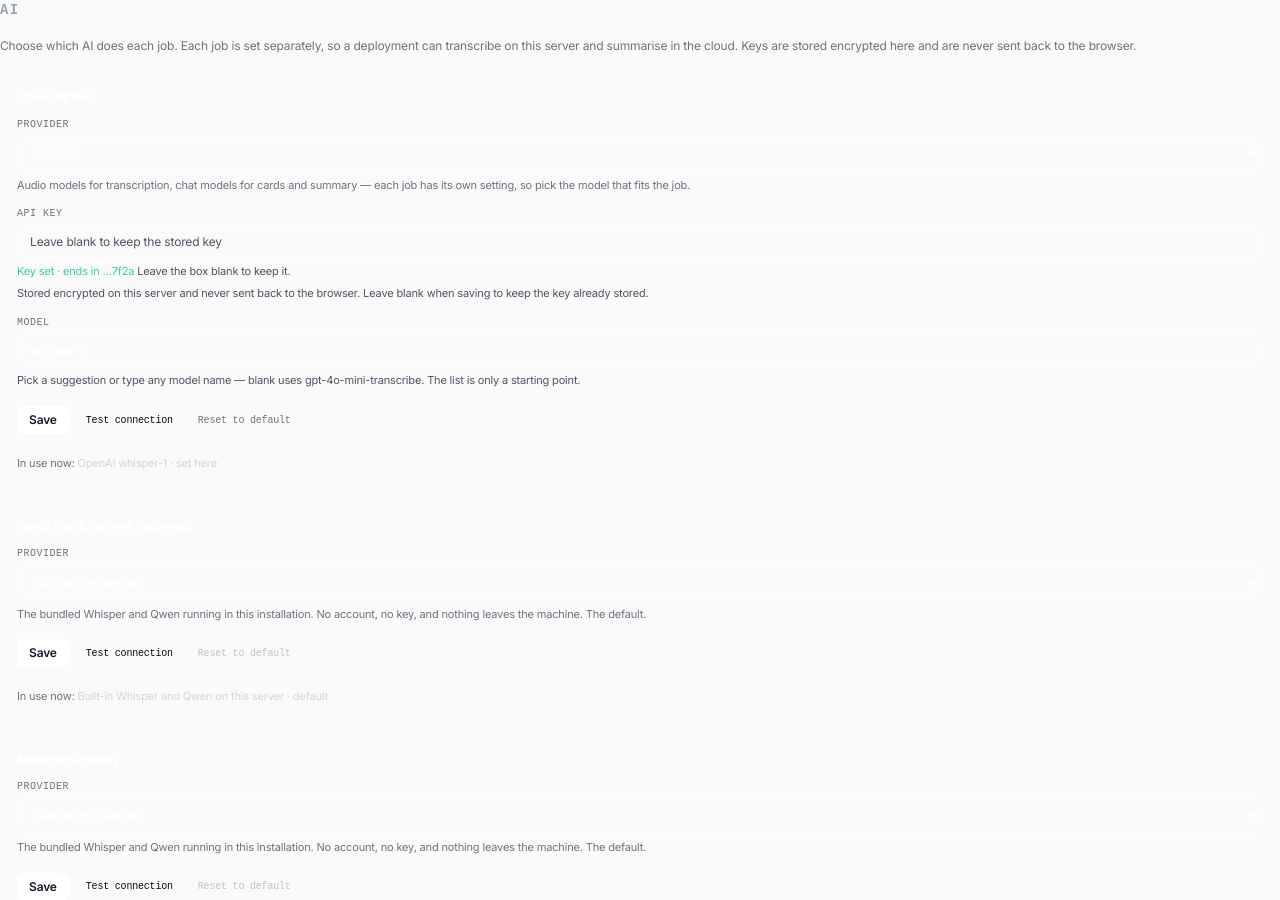
Scenario: AiSettingsSection › renders a failed connection’s reason verbatim
This screenshot has width=1280, height=900.
Click the button "Test connection" below "Key set · ends in …7f2a" at (129, 420), box [77,408,182,432]
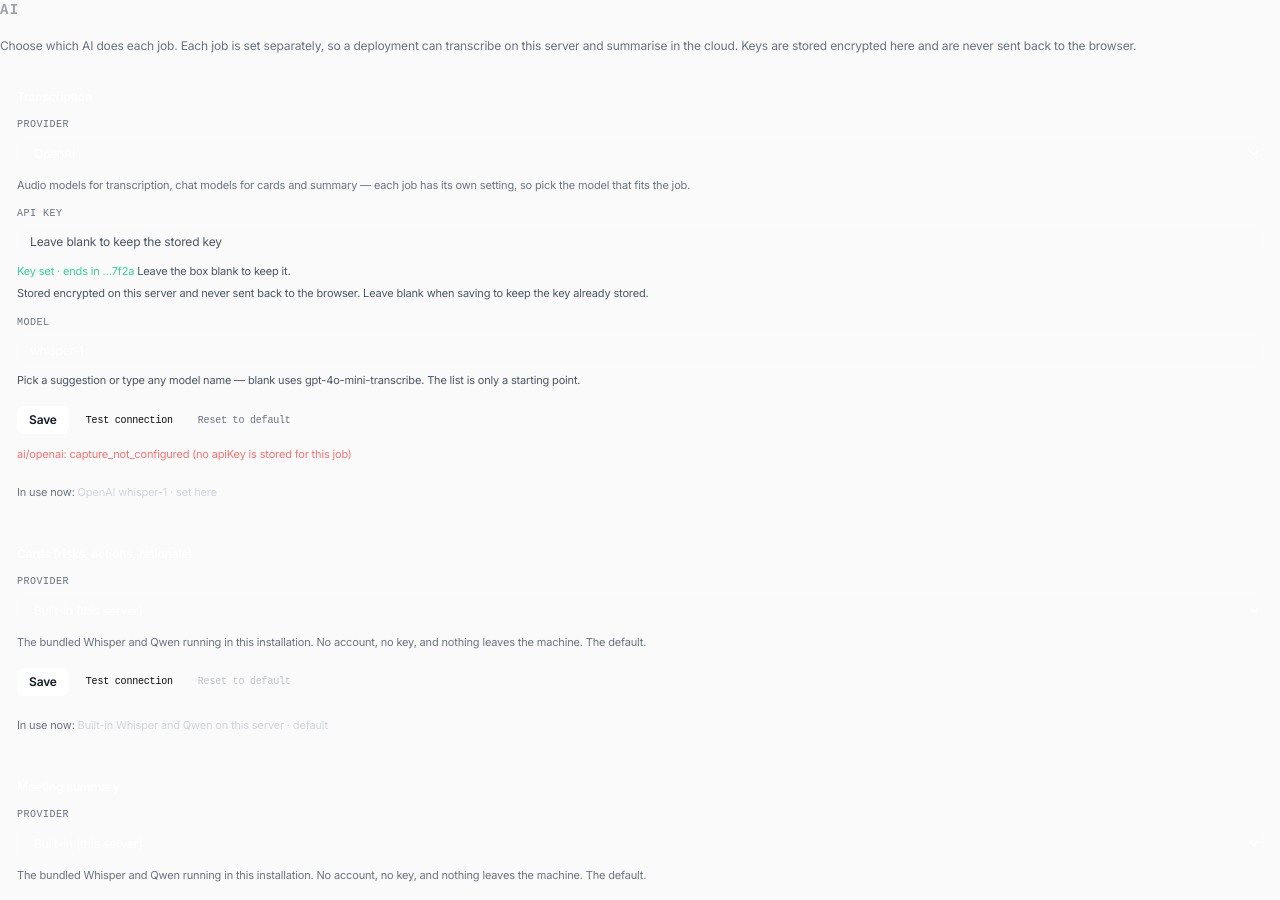
Now the text with test id "ai-test-result-transcription" reads "ai/openai: capture_not_configured (no apiKey is stored for this job)", box [17,447,352,461]
